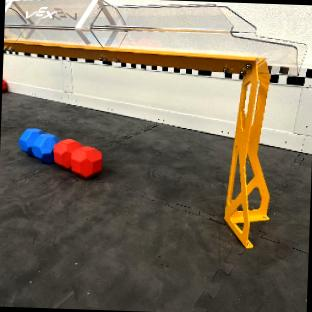Goal: (4, 0, 300, 247)
V5_BLUE: (18, 128, 59, 163)
V5_RED: (53, 137, 103, 178), (2, 79, 6, 92)
